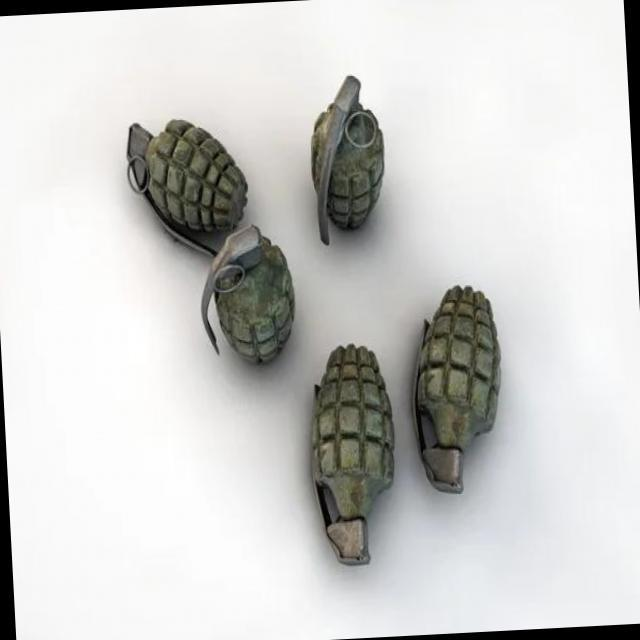grenade: (98, 79, 516, 592)
